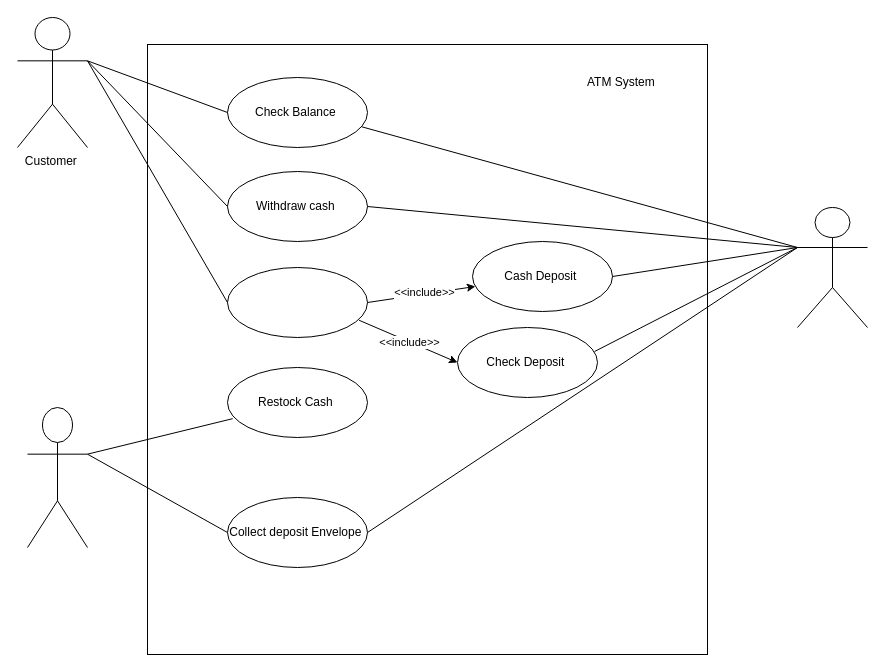
Image size: 889x672. Some labels were removed from this diagram. Here are the shapes that lost their labels. From the top down, the box of each, then its label:
(796, 206, 868, 328): BankDatabase
(226, 266, 368, 338): Make Deposit
(26, 406, 88, 548): Admin
